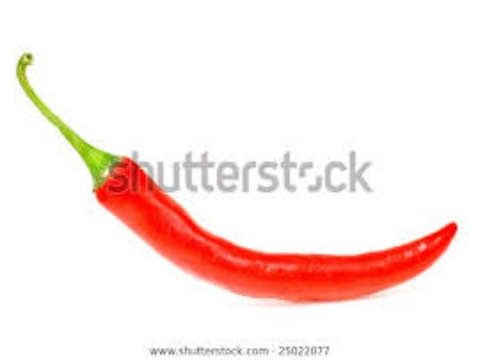Chilli: (13, 43, 470, 306)
